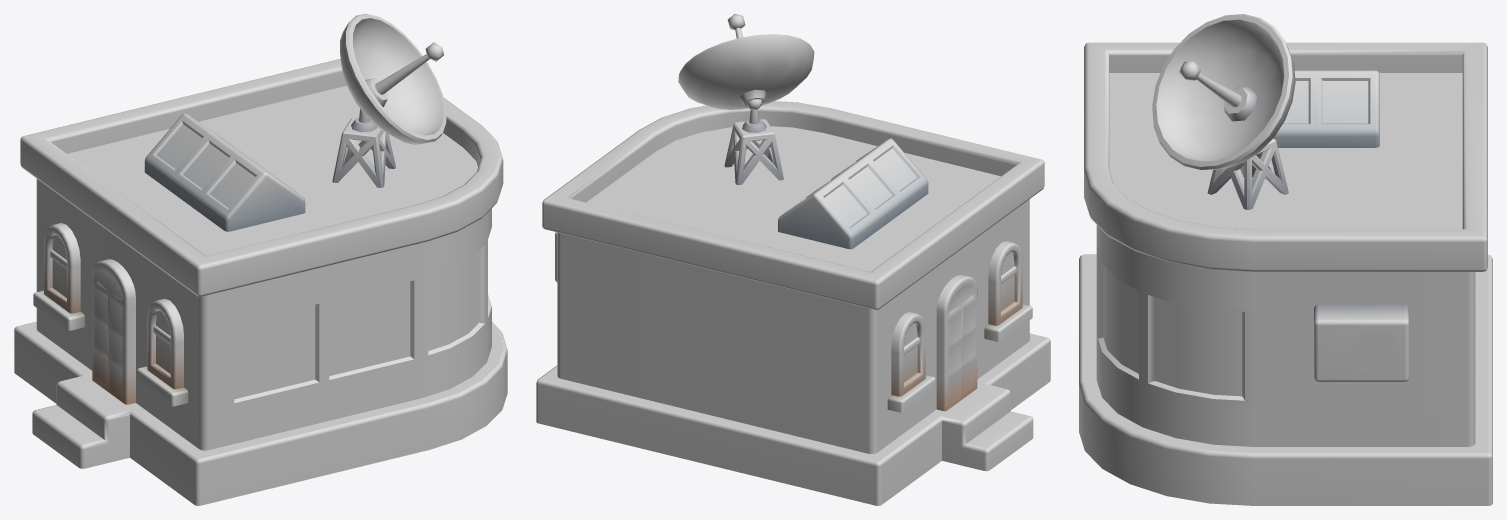
File: NF_Bld_Shop 01.fbx
3 views of the same model, side by side, from view 1: azimuth 30°, elevation 25°; view 2: azimuth 150°, elevation 25°; view 3: azimuth 270°, elevation 25° (orthographic). The views are drawn at different scales.
Parts seen in each view (by area): view 1: Shop_1; view 2: Shop_1; view 3: Shop_1.
Part boxes in pixels (x1=…): Shop_1: x1=14, y1=14, x2=507, y2=505; Shop_1: x1=536, y1=14, x2=1050, y2=505; Shop_1: x1=1079, y1=14, x2=1492, y2=505.
Size of the model in its own units: 8.93 by 7.26 by 6.56.
